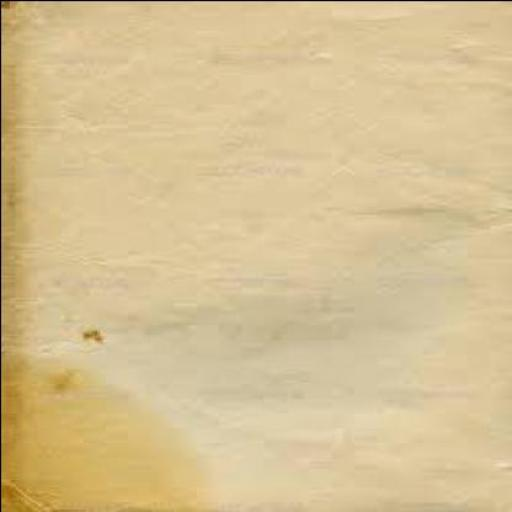cardboard: (2, 0, 511, 511)
